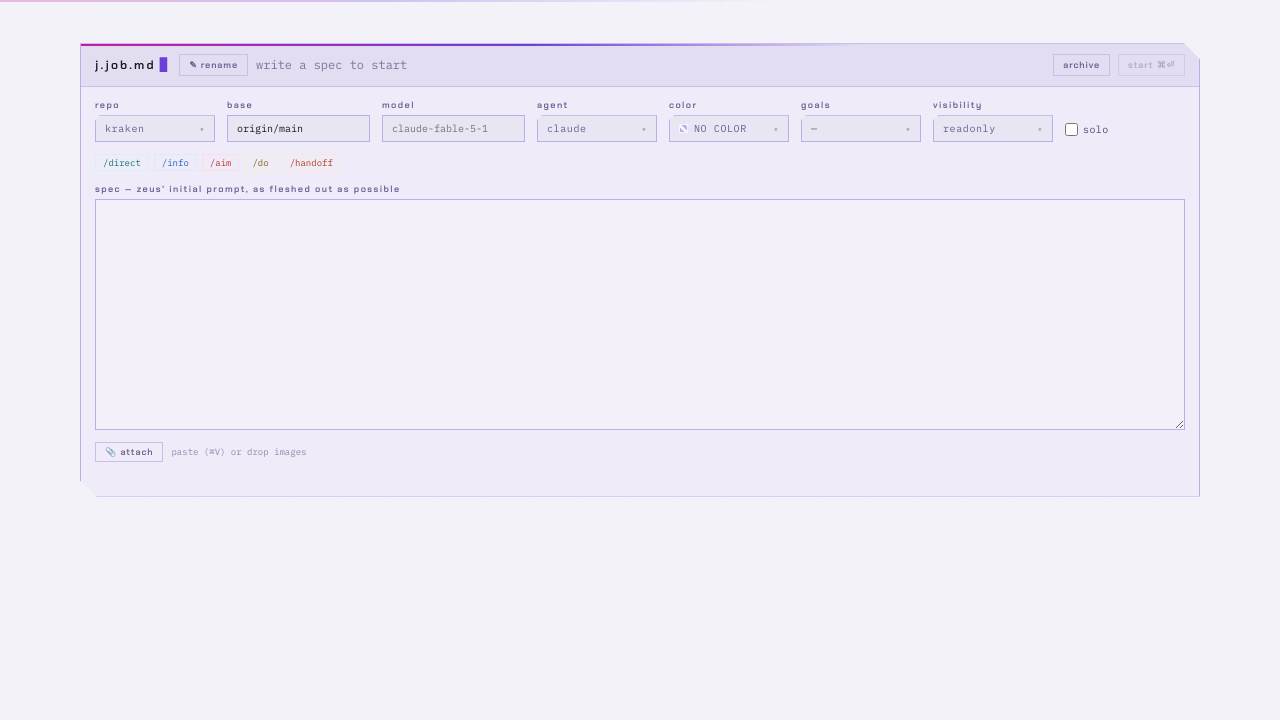
Test: RenameControl in the editor › keeps the row open on the old slug when the server refuses
Expected: the text box with id "editor-text" is shown, [95,199,1185,430]
Click the button "✎ rename".
click(214, 65)  # box [179,54,248,76]
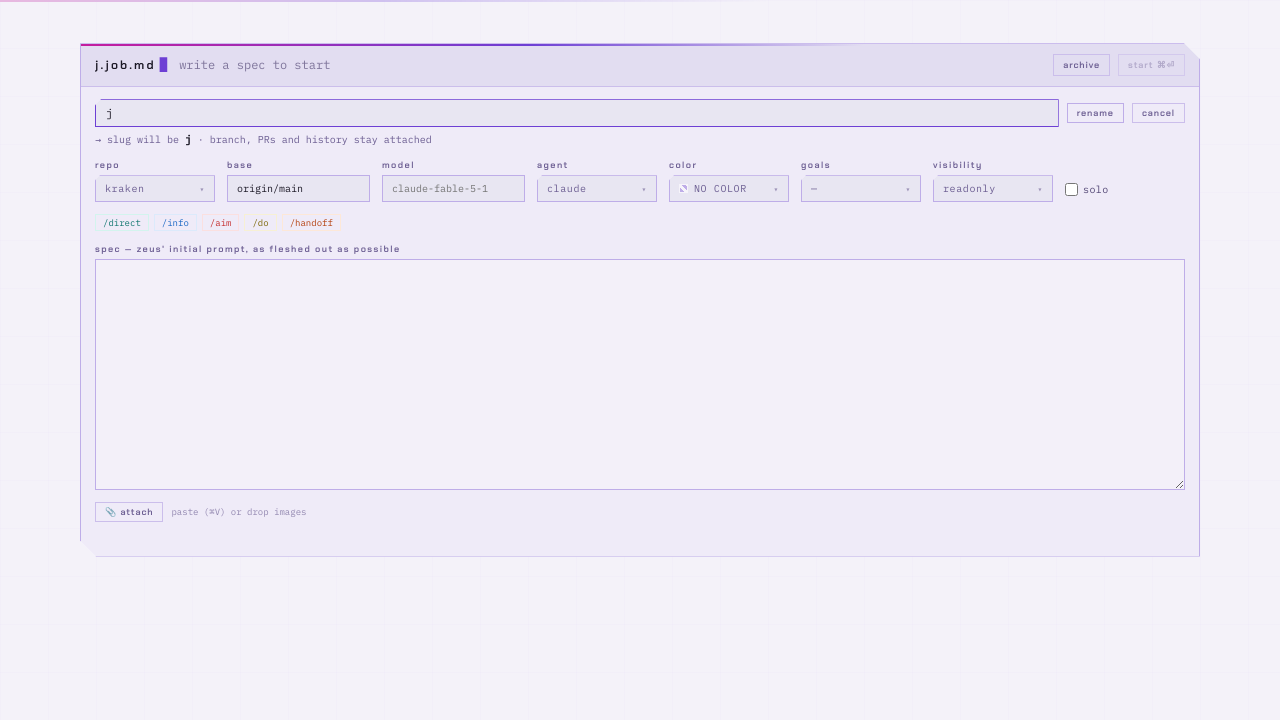
Replace the text in the field with placeholder "new name" with "taken" at (577, 113), box [95,99,1059,127]
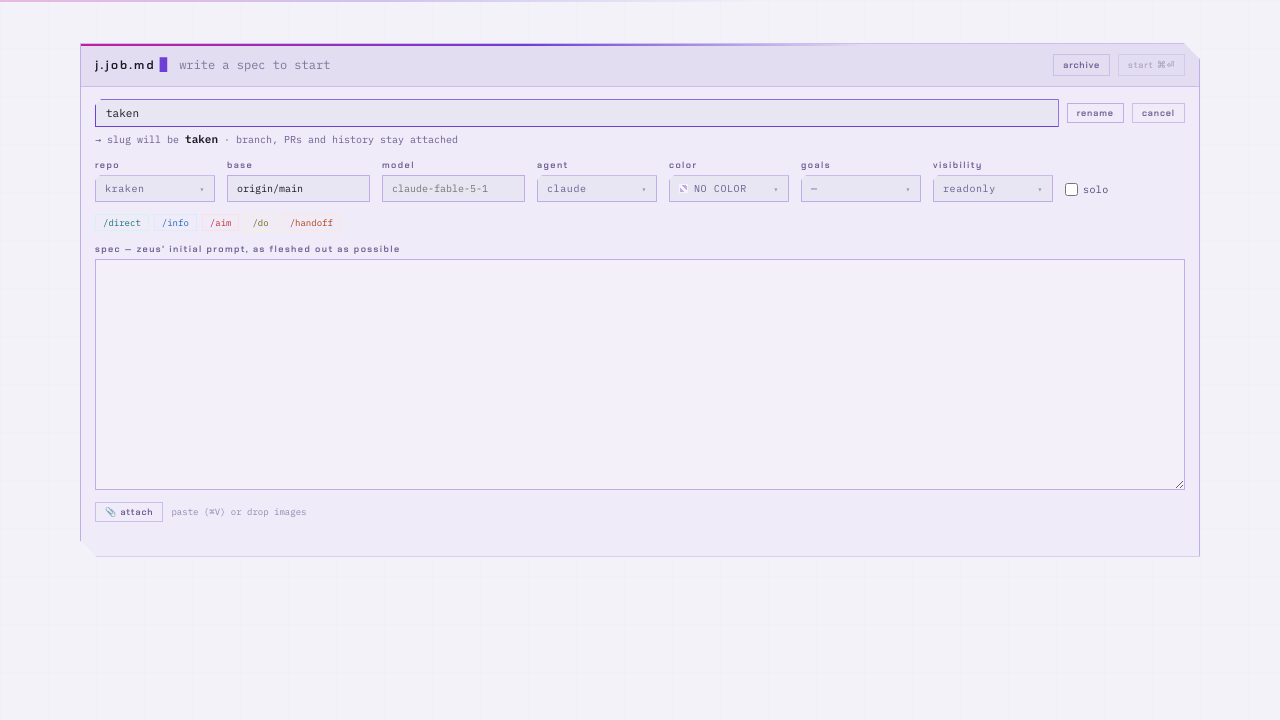
Click the button "rename".
click(1095, 113)  # box [1067,103,1124,123]
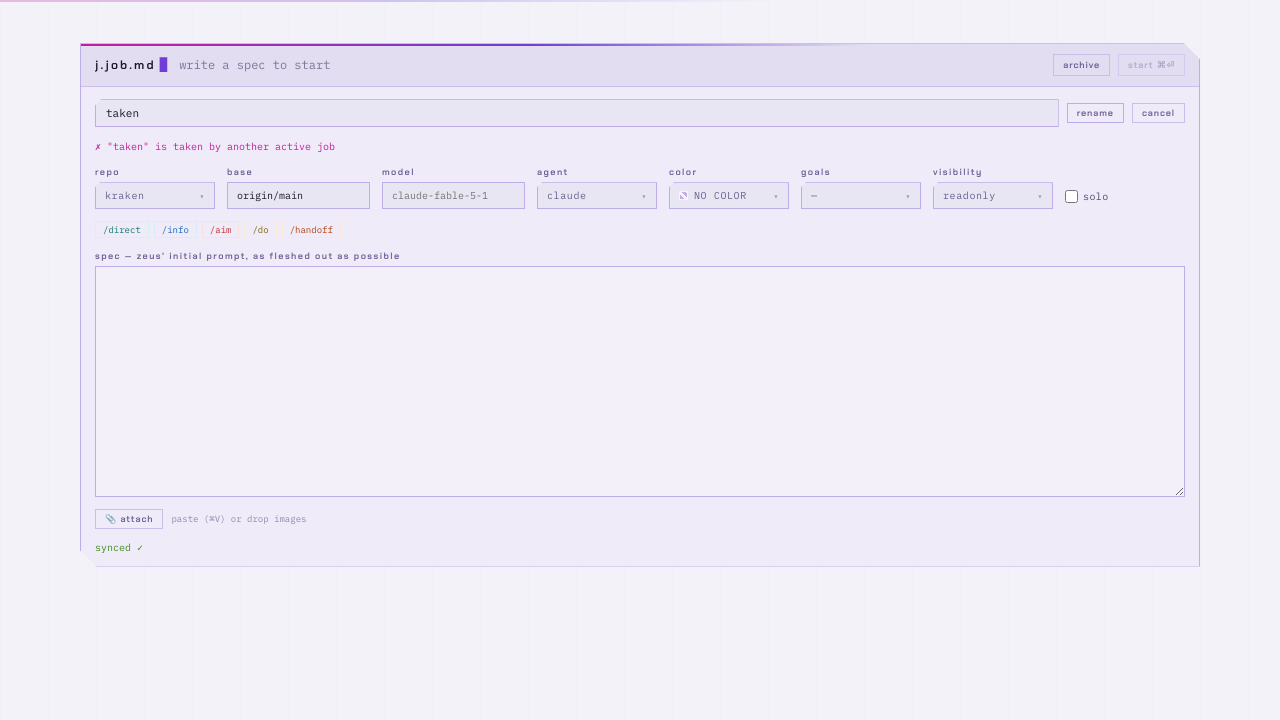
Expected: the text with id "editor-title" reads "j.job.md", [95,57,156,73]
Expected: the element with id "editor-rename-row" shows "is taken by another active job", [107,140,335,153]
